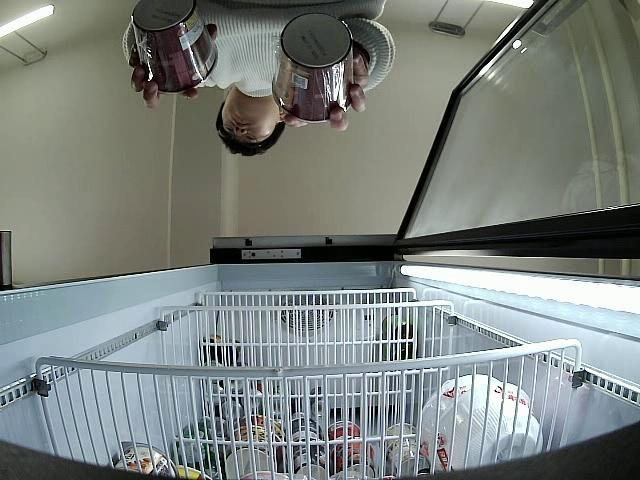06_nuguri_S: (272, 13, 353, 122), (131, 0, 217, 94)
